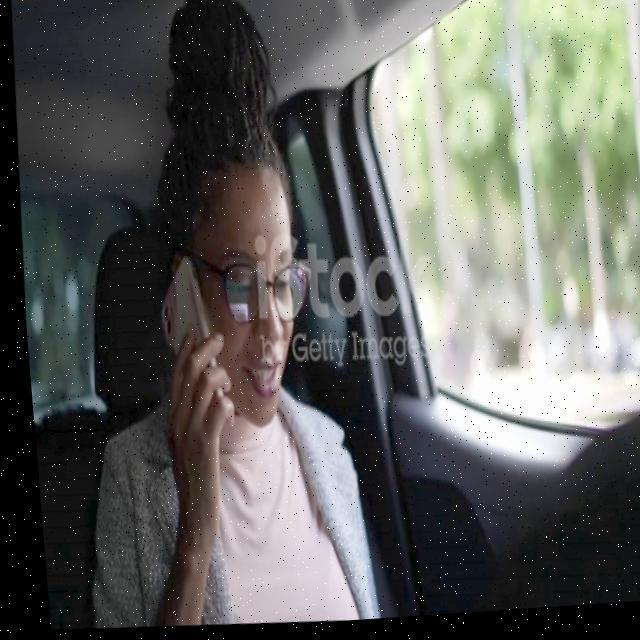PhoneCall: (148, 256, 224, 424)
